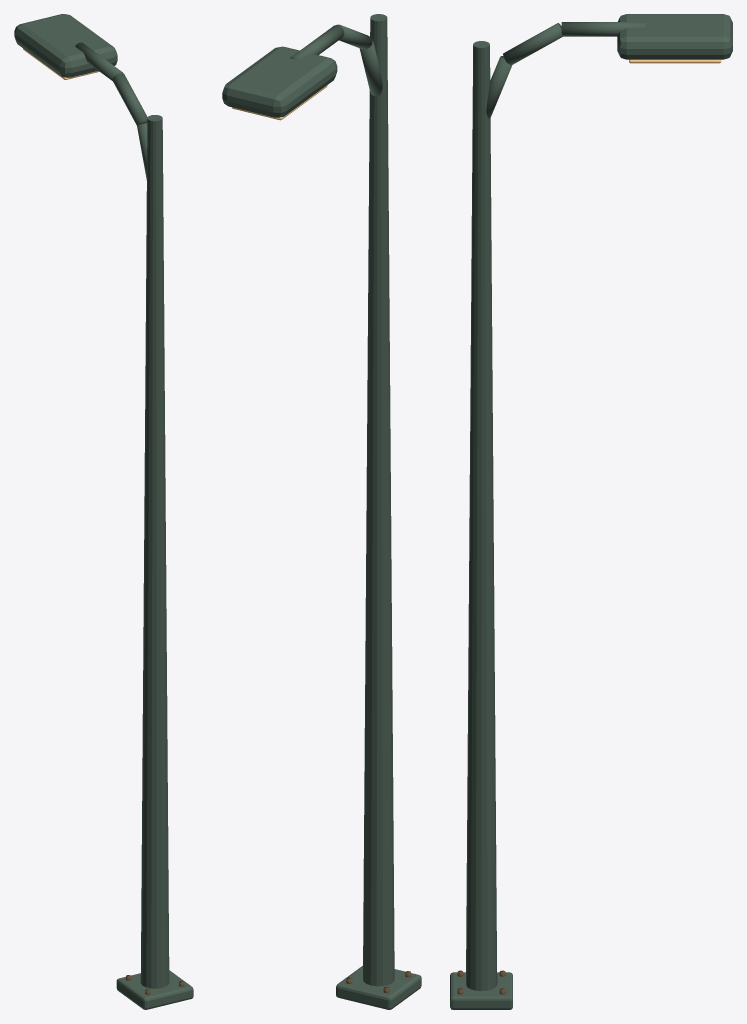
Rendered from SM_District_StreetLamp_5m.fbx.
3 renders of one model, left to right at view 1: azimuth 30°, elevation 25°; view 2: azimuth 150°, elevation 25°; view 3: azimuth 270°, elevation 25°, orthographic. The views are drawn at different scales.
Visible parts, largest first — view 1: SM_District_StreetLamp_5m; view 2: SM_District_StreetLamp_5m; view 3: SM_District_StreetLamp_5m.
Boxes of the visible parts, <box> form: SM_District_StreetLamp_5m: <box>14,14,193,1009</box>; SM_District_StreetLamp_5m: <box>222,14,421,1009</box>; SM_District_StreetLamp_5m: <box>450,14,732,1009</box>.
Size of the model in its own units: 34 by 135 by 511.
